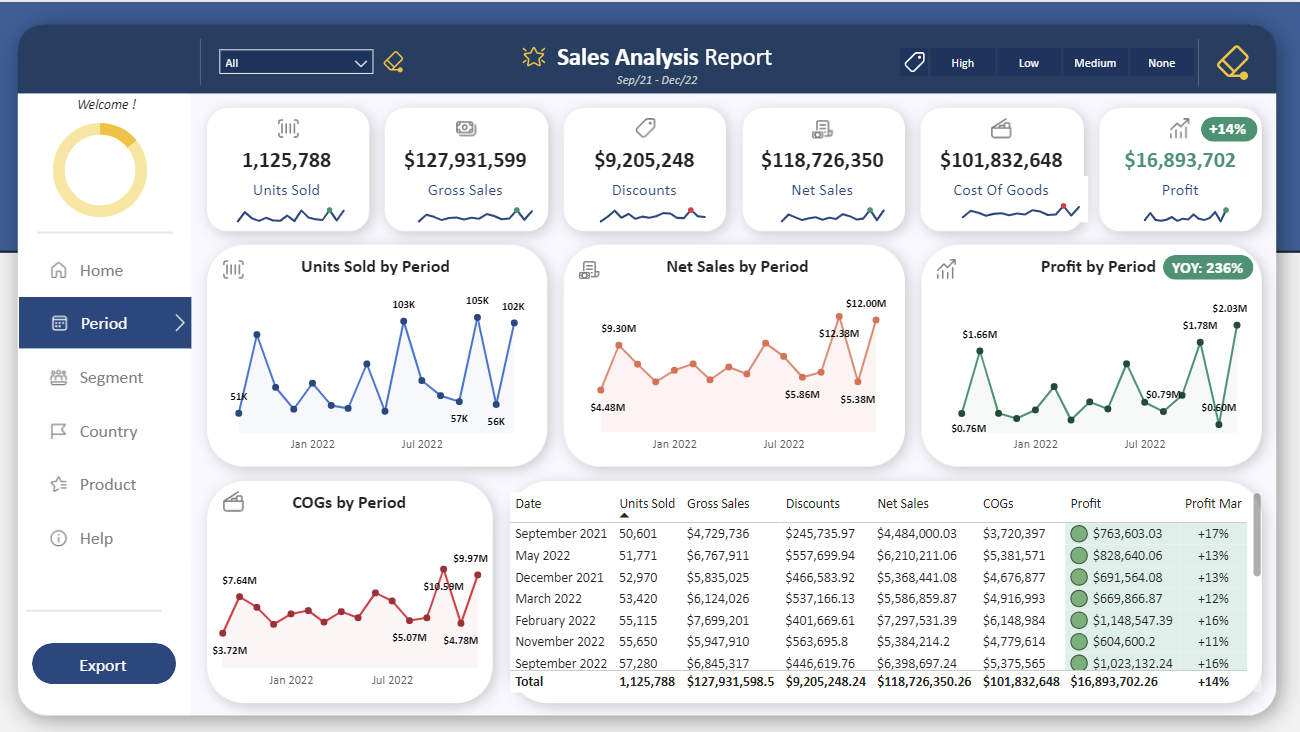

What the dashboard file says about the page in this screenshot:
{"tool":"powerbi","page":{"name":"Sales Analysis","canvas":[1280,720],"ordinal":1},"visuals":[{"type":"slicer","fields":{"Values":["DIM_MANAGERS.Manager Name"]},"box":[213.3,35.3,170,45],"z":0,"group":"g4"},{"type":"pivotTable","fields":{"Rows":["DIM_MANAGERS.Image URL"]},"box":[66.5,121.1,85,85],"z":0,"group":"g6"},{"type":"areaChart","title":"Units Sold by Period","fields":{"Category":["DIM_DATE.Reporting Period"],"Y":["*Measures.M_Units Sold"]},"box":[216,246,320,200],"z":0,"group":"g1"},{"type":"actionButton","title":"Button_Period_Active","box":[28.7,286.5,167.7,50],"z":0,"group":"g5"},{"type":"actionButton","title":"Button_Export","box":[41.9,622.9,140.1,40],"z":0,"group":"g3"},{"type":"actionButton","title":"Button Clear Managers","box":[375.3,44.3,36,25],"z":1000,"group":"g4"},{"type":"shape","title":"Shape scroll hide","box":[139.8,108.7,22.6,23.7],"z":1000,"group":"g6"},{"type":"pivotTable","title":"Spark_Profit","fields":{"Values":["SparklineData(*Measures.M_Profit_[DIM_DATE.YearMonth])"]},"box":[1095,164,156.9,68.4],"z":1000,"group":"g2"},{"type":"areaChart","title":"Net Sales by Period","fields":{"Category":["DIM_DATE.Reporting Period"],"Y":["*Measures.M_Net Sales"]},"box":[567.6,246,319.7,200.1],"z":1000,"group":"g1"},{"type":"actionButton","box":[166.8,286.5,29.6,50.4],"z":1000,"group":"g5"},{"type":"shape","title":"Shape_Nav bottom Divider","box":[36,575.2,131.6,32.4],"z":1000,"group":"g3"},{"type":"actionButton","box":[497.7,32.7,63,40],"z":2000,"group":"g4"},{"type":"shape","title":"Shape for hide manag","box":[66.5,121.1,84.6,85.7],"z":2000,"group":"g6"},{"type":"shape","title":"Shape_Nav  top Divider","box":[47.1,207.7,132.1,32.2],"z":2000,"group":"g3"},{"type":"areaChart","title":"Profit by Period","fields":{"Category":["DIM_DATE.Reporting Period"],"Y":["*Measures.M_Profit"]},"box":[919,246,319.7,200.1],"z":2000,"group":"g1"},{"type":"textbox","box":[547.7,32.7,235,41],"z":3000,"group":"g4"},{"type":"donutChart","title":"donut chart","fields":{"Y":["*Measures.M_Profit Margin","*Measures.M_100% Minus Profit Margin"]},"box":[46,101.3,124.6,124.6],"z":3000,"group":"g6"},{"type":"pivotTable","title":"Spark_COGs","fields":{"Values":["SparklineData(*Measures.M_Cost Of Goods_[DIM_DATE.YearMonth])"]},"box":[918.6,164,156.9,68.4],"z":3000,"group":"g2"},{"type":"areaChart","title":"COGs by Period","fields":{"Category":["DIM_DATE.Reporting Period"],"Y":["*Measures.M_Cost Of Goods"]},"box":[200,475,300,200.1],"z":3000,"group":"g1"},{"type":"actionButton","title":"Button_Help","box":[28,496,168.6,50.5],"z":3000,"group":"g3"},{"type":"card","fields":{"Values":["*Measures.M_Date Selection"]},"box":[587.7,57.7,123,38],"z":4000,"group":"g4"},{"type":"group","id":"g1","title":"Period","box":[200,238,1043,438.5],"z":4000},{"type":"tableEx","title":"Table Period","fields":{"Values":["DIM_DATE.Reporting Period","*Measures.M_Units Sold","*Measures.M_Gross Sales","*Measures.M_Discounts","*Measures.M_Net Sales","*Measures.M_Cost Of Goods","*Measures.M_Profit","*Measures.M_Profit Margin Formatted"]},"box":[500.6,471.8,742.4,204.8],"z":4000,"group":"g1"},{"type":"actionButton","box":[885.3,44.3,27,27],"z":5000,"group":"g4"},{"type":"group","id":"g2","title":"KPIs & Sparks","box":[213,103,1038.8,399.8],"z":5000},{"type":"pivotTable","title":"Spark_Net Sales","fields":{"Values":["SparklineData(*Measures.M_Net Sales_[DIM_DATE.YearMonth])"]},"box":[742.2,164,156.9,68.4],"z":5000,"group":"g2"},{"type":"shape","title":"Shape_Profit yoy","box":[1142,246,88,24],"z":5000,"group":"g1"},{"type":"actionButton","title":"Button_Product","box":[28,443.7,168.6,50.5],"z":5000,"group":"g3"},{"type":"slicer","fields":{"Values":["FACT_SALES.Discount Band"]},"box":[889.3,37.3,306,41],"z":6000,"group":"g4"},{"type":"group","id":"g3","title":"Navigation","box":[27.2,80.5,169.4,582.4],"z":6000},{"type":"pivotTable","title":"Spark_Discounts","fields":{"Values":["SparklineData(*Measures.M_Discounts_[DIM_DATE.YearMonth])"]},"box":[565.9,164,156.9,68.4],"z":6000,"group":"g2"},{"type":"card","title":"Card_Profit yoy","fields":{"Values":["*Measures.M_Profit YOY% Formatted"]},"box":[1142,238,87,42],"z":6000,"group":"g1"},{"type":"group","id":"g4","title":"Header","box":[189.3,32.7,1040,63],"z":7000},{"type":"actionButton","title":"Button Clear Discount","box":[1190.3,40.3,39,35],"z":7000,"group":"g4"},{"type":"pivotTable","title":"Spark_Gross Sales","fields":{"Values":["SparklineData(*Measures.M_Gross Sales_[DIM_DATE.YearMonth])"]},"box":[389.5,164,156.9,68.4],"z":7000,"group":"g2"},{"type":"actionButton","title":"Button_Country","box":[28,391.4,168.6,50.5],"z":7000,"group":"g3"},{"type":"shape","box":[189.3,35.3,32,45],"z":8000,"group":"g4"},{"type":"pivotTable","title":"Spark_Units Sold","fields":{"Values":["SparklineData(*Measures.M_Units Sold_[DIM_DATE.YearMonth])"]},"box":[213,164,157,68],"z":8000,"group":"g2"},{"type":"shape","box":[1160.3,35.3,32.1,45.7],"z":9000,"group":"g4"},{"type":"card","title":"Card_Profit","fields":{"Values":["*Measures.M_Profit"]},"box":[1087,119,142.5,89.3],"z":9000,"group":"g2"},{"type":"actionButton","title":"Button_Segment","box":[28,339.1,168.6,50.5],"z":9000,"group":"g3"},{"type":"card","title":"Card_COGs","fields":{"Values":["*Measures.M_Cost Of Goods"]},"box":[913.3,119,142.5,89.3],"z":10000,"group":"g2"},{"type":"group","id":"g5","title":"Button_Period_Active","box":[28.7,286.5,167.7,50.4],"z":10000,"group":"g3"},{"type":"card","title":"Card_Net Sales","fields":{"Values":["*Measures.M_Net Sales"]},"box":[739.6,119,142.5,89.3],"z":11000,"group":"g2"},{"type":"card","title":"Card_Discounts","fields":{"Values":["*Measures.M_Discounts"]},"box":[565.9,119,142.5,89.3],"z":12000,"group":"g2"},{"type":"actionButton","title":"Button_Home","box":[28,235,168.6,50],"z":12000,"group":"g3"},{"type":"card","title":"Card_Welcome","fields":{"Values":["*Measures.M_User Greeting"]},"box":[38.4,80.5,152.5,40.8],"z":13000,"group":"g3"},{"type":"card","title":"Card_Gross Sales","fields":{"Values":["*Measures.M_Gross Sales"]},"box":[392.2,119,142.5,89.3],"z":13000,"group":"g2"},{"type":"group","id":"g6","title":"Mgr Image","box":[46,101.3,124.6,124.6],"z":14000,"group":"g3"},{"type":"card","title":"Card_Units Sold","fields":{"Values":["*Measures.M_Units Sold"]},"box":[218,119,143,89],"z":14000,"group":"g2"},{"type":"actionButton","title":"Button_Profit Icon","box":[1142,106.4,31.6,32.5],"z":15000,"group":"g2"},{"type":"actionButton","title":"Button_COG Icon","box":[968.7,106.4,31.6,32.5],"z":16000,"group":"g2"},{"type":"actionButton","title":"Button_Net Sales Icon","box":[795.4,106.4,31.6,32.5],"z":17000,"group":"g2"},{"type":"actionButton","title":"Button_Discount Icon","box":[622.1,106.4,31.6,32.5],"z":18000,"group":"g2"},{"type":"actionButton","title":"Button_Gross Sales Icon","box":[448.7,106.4,31.6,32.5],"z":19000,"group":"g2"},{"type":"actionButton","title":"Button_Units Sold Icon","box":[275,106.4,32,32],"z":20000,"group":"g2"},{"type":"shape","title":"Shape_Profit Margin","box":[1179,112,55,24],"z":21000,"group":"g2"},{"type":"card","title":"Card_Profit Margin","fields":{"Values":["*Measures.M_Profit Margin Formatted"]},"box":[1178,103,54,42],"z":22000,"group":"g2"},{"type":"actionButton","title":"Button_COG Icon","box":[222,470,31.9,32.8],"z":22125,"group":"g2"},{"type":"actionButton","title":"Button_Profit Icon","box":[915,243,31,32.8],"z":22250,"group":"g2"},{"type":"actionButton","title":"Button_Net Sales Icon","box":[568.9,243,31,32.8],"z":22500,"group":"g2"},{"type":"actionButton","title":"Button_Units Sold Icon","box":[222,243.9,31.9,31.9],"z":23000,"group":"g2"}]}

Visuals, with their boxes in screenshot pixels (x1, y1, x2, y2), scaled from the page's 1280x720 canvas onto the 1300x732 screenshot:
slicer - DIM_MANAGERS.Manager Name: (x1=217, y1=36, x2=389, y2=82)
pivotTable - DIM_MANAGERS.Image URL: (x1=68, y1=123, x2=154, y2=210)
"Units Sold by Period" areaChart: (x1=219, y1=250, x2=544, y2=453)
"Button_Period_Active" actionButton: (x1=29, y1=291, x2=199, y2=342)
"Button_Export" actionButton: (x1=43, y1=633, x2=185, y2=674)
"Button Clear Managers" actionButton: (x1=381, y1=45, x2=418, y2=70)
"Shape scroll hide" shape: (x1=142, y1=111, x2=165, y2=135)
"Spark_Profit" pivotTable: (x1=1112, y1=167, x2=1271, y2=236)
"Net Sales by Period" areaChart: (x1=576, y1=250, x2=901, y2=454)
actionButton: (x1=169, y1=291, x2=199, y2=343)
"Shape_Nav bottom Divider" shape: (x1=37, y1=585, x2=170, y2=618)
actionButton: (x1=505, y1=33, x2=569, y2=74)
"Shape for hide manag" shape: (x1=68, y1=123, x2=153, y2=210)
"Shape_Nav  top Divider" shape: (x1=48, y1=211, x2=182, y2=244)
"Profit by Period" areaChart: (x1=933, y1=250, x2=1258, y2=454)
textbox: (x1=556, y1=33, x2=795, y2=75)
"donut chart" donutChart: (x1=47, y1=103, x2=173, y2=230)
"Spark_COGs" pivotTable: (x1=933, y1=167, x2=1092, y2=236)
"COGs by Period" areaChart: (x1=203, y1=483, x2=508, y2=686)
"Button_Help" actionButton: (x1=28, y1=504, x2=200, y2=556)
card - *Measures.M_Date Selection: (x1=597, y1=59, x2=722, y2=97)
"Period" group: (x1=203, y1=242, x2=1262, y2=688)
"Table Period" tableEx: (x1=508, y1=480, x2=1262, y2=688)
actionButton: (x1=899, y1=45, x2=927, y2=72)
"KPIs & Sparks" group: (x1=216, y1=105, x2=1271, y2=511)
"Spark_Net Sales" pivotTable: (x1=754, y1=167, x2=913, y2=236)
"Shape_Profit yoy" shape: (x1=1160, y1=250, x2=1249, y2=274)
"Button_Product" actionButton: (x1=28, y1=451, x2=200, y2=502)
slicer - FACT_SALES.Discount Band: (x1=903, y1=38, x2=1214, y2=80)
"Navigation" group: (x1=28, y1=82, x2=200, y2=674)
"Spark_Discounts" pivotTable: (x1=575, y1=167, x2=734, y2=236)
"Card_Profit yoy" card: (x1=1160, y1=242, x2=1248, y2=285)
"Header" group: (x1=192, y1=33, x2=1249, y2=97)
"Button Clear Discount" actionButton: (x1=1209, y1=41, x2=1249, y2=77)
"Spark_Gross Sales" pivotTable: (x1=396, y1=167, x2=555, y2=236)
"Button_Country" actionButton: (x1=28, y1=398, x2=200, y2=449)
shape: (x1=192, y1=36, x2=225, y2=82)
"Spark_Units Sold" pivotTable: (x1=216, y1=167, x2=376, y2=236)
shape: (x1=1178, y1=36, x2=1211, y2=82)
"Card_Profit" card: (x1=1104, y1=121, x2=1249, y2=212)
"Button_Segment" actionButton: (x1=28, y1=345, x2=200, y2=396)
"Card_COGs" card: (x1=928, y1=121, x2=1072, y2=212)
"Button_Period_Active" group: (x1=29, y1=291, x2=199, y2=343)
"Card_Net Sales" card: (x1=751, y1=121, x2=896, y2=212)
"Card_Discounts" card: (x1=575, y1=121, x2=719, y2=212)
"Button_Home" actionButton: (x1=28, y1=239, x2=200, y2=290)
"Card_Welcome" card: (x1=39, y1=82, x2=194, y2=123)
"Card_Gross Sales" card: (x1=398, y1=121, x2=543, y2=212)
"Mgr Image" group: (x1=47, y1=103, x2=173, y2=230)
"Card_Units Sold" card: (x1=221, y1=121, x2=367, y2=211)
"Button_Profit Icon" actionButton: (x1=1160, y1=108, x2=1192, y2=141)
"Button_COG Icon" actionButton: (x1=984, y1=108, x2=1016, y2=141)
"Button_Net Sales Icon" actionButton: (x1=808, y1=108, x2=840, y2=141)
"Button_Discount Icon" actionButton: (x1=632, y1=108, x2=664, y2=141)
"Button_Gross Sales Icon" actionButton: (x1=456, y1=108, x2=488, y2=141)
"Button_Units Sold Icon" actionButton: (x1=279, y1=108, x2=312, y2=141)
"Shape_Profit Margin" shape: (x1=1197, y1=114, x2=1253, y2=138)
"Card_Profit Margin" card: (x1=1196, y1=105, x2=1251, y2=147)
"Button_COG Icon" actionButton: (x1=225, y1=478, x2=258, y2=511)
"Button_Profit Icon" actionButton: (x1=929, y1=247, x2=961, y2=280)
"Button_Net Sales Icon" actionButton: (x1=578, y1=247, x2=609, y2=280)
"Button_Units Sold Icon" actionButton: (x1=225, y1=248, x2=258, y2=280)
